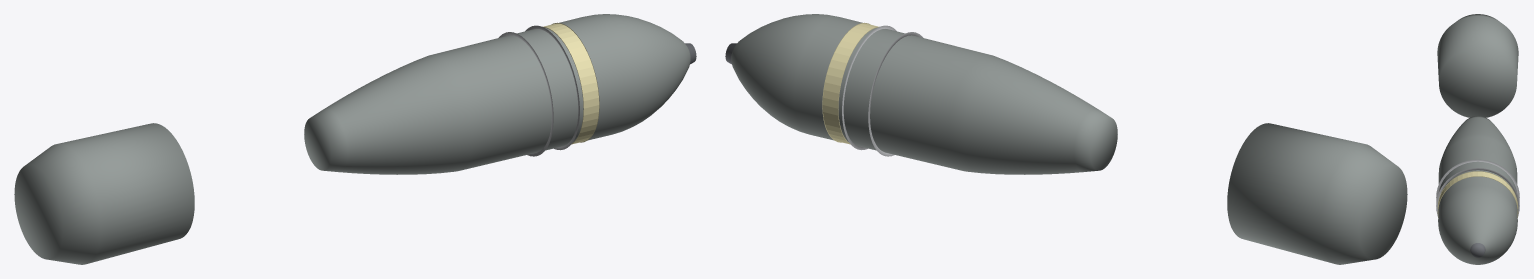
Rendered from US_SLBM_Polaris_A1_LOD0.fbx.
3 renders of one model, left to right at view 1: azimuth 30°, elevation 25°; view 2: azimuth 150°, elevation 25°; view 3: azimuth 270°, elevation 25°, orthographic. The views are drawn at different scales.
Visible parts, largest first — view 1: WPN_US_SLBM_Polaris_A1_LOD0_Body, WPN_US_SLBM_Polaris_A1_LOD0_Tail, WPN_US_SLBM_Polaris_A1_LOD0_Marking, WPN_US_SLBM_Polaris_A1_LOD0_Detail; view 2: WPN_US_SLBM_Polaris_A1_LOD0_Body, WPN_US_SLBM_Polaris_A1_LOD0_Tail, WPN_US_SLBM_Polaris_A1_LOD0_Marking, WPN_US_SLBM_Polaris_A1_LOD0_Detail; view 3: WPN_US_SLBM_Polaris_A1_LOD0_Body, WPN_US_SLBM_Polaris_A1_LOD0_Tail, WPN_US_SLBM_Polaris_A1_LOD0_Detail, WPN_US_SLBM_Polaris_A1_LOD0_Marking, WPN_US_SLBM_Polaris_A1_LOD0_Nose.
Boxes of the visible parts, x1,y1,x2,y2 form: WPN_US_SLBM_Polaris_A1_LOD0_Body: (304,14,690,174); WPN_US_SLBM_Polaris_A1_LOD0_Tail: (14,123,194,264); WPN_US_SLBM_Polaris_A1_LOD0_Marking: (542,22,599,144); WPN_US_SLBM_Polaris_A1_LOD0_Detail: (498,25,579,156); WPN_US_SLBM_Polaris_A1_LOD0_Body: (731,14,1117,174); WPN_US_SLBM_Polaris_A1_LOD0_Tail: (1227,123,1407,264); WPN_US_SLBM_Polaris_A1_LOD0_Marking: (822,22,879,144); WPN_US_SLBM_Polaris_A1_LOD0_Detail: (842,25,923,156); WPN_US_SLBM_Polaris_A1_LOD0_Body: (1438,116,1517,264); WPN_US_SLBM_Polaris_A1_LOD0_Tail: (1437,14,1518,117); WPN_US_SLBM_Polaris_A1_LOD0_Detail: (1436,159,1519,216); WPN_US_SLBM_Polaris_A1_LOD0_Marking: (1437,171,1518,217); WPN_US_SLBM_Polaris_A1_LOD0_Nose: (1470,243,1485,257).
Bounding box in the file's own units: 8.5 × 1.44 × 1.44.
